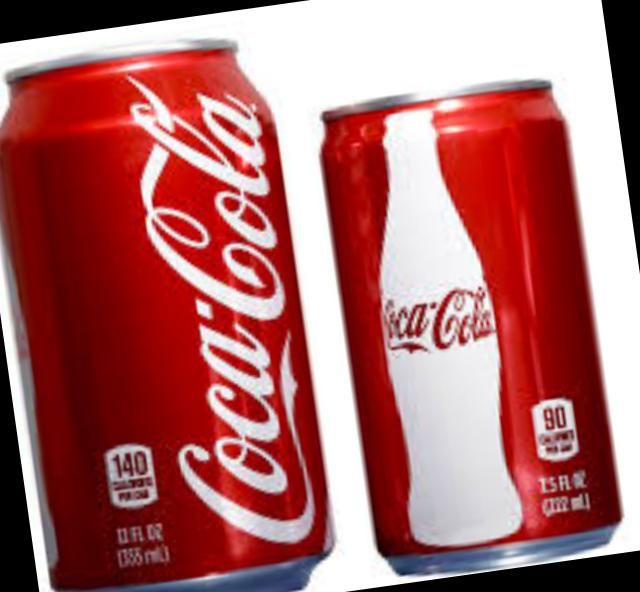metal: (0, 36, 325, 592), (317, 76, 614, 569)
